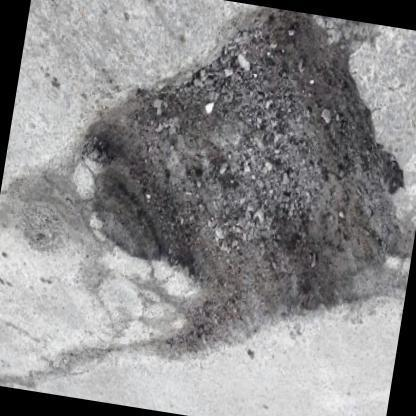pothole: (76, 10, 404, 340)
